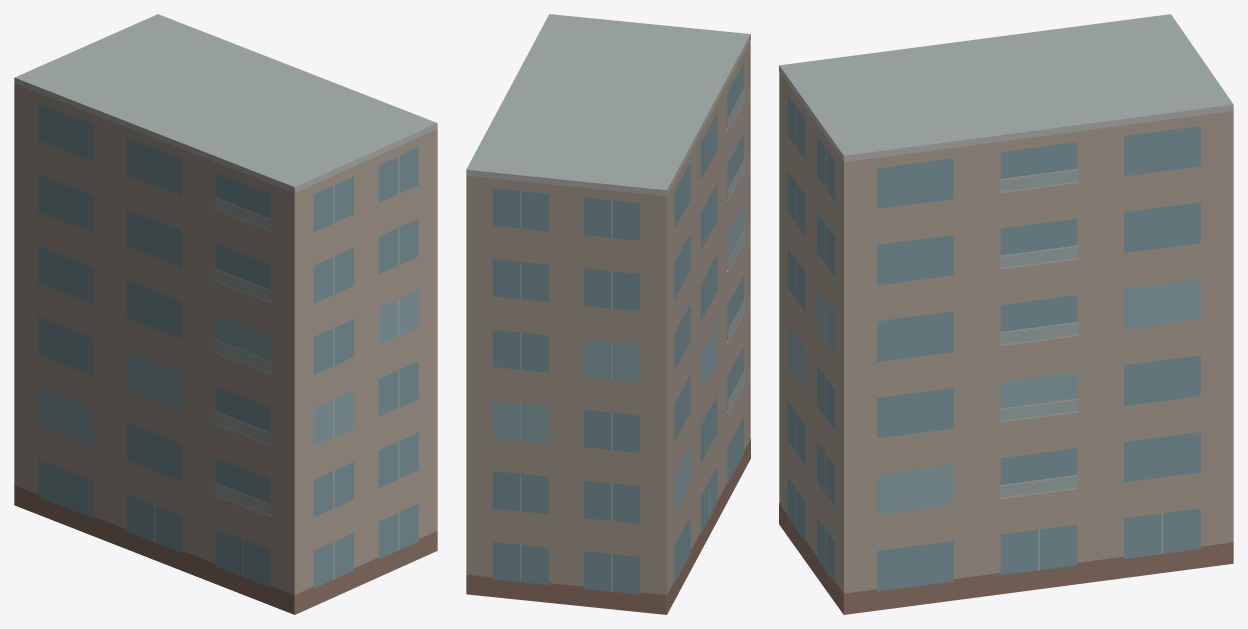
File: survey-upis-32764871.glb
3 views of the same model, side by side, from view 1: azimuth 30°, elevation 25°; view 2: azimuth 150°, elevation 25°; view 3: azimuth 270°, elevation 25° (orthographic). The views are drawn at different scales.
Parts seen in each view (by area): view 1: survey-upis-32764871.tmp; view 2: survey-upis-32764871.tmp; view 3: survey-upis-32764871.tmp.
Boxes of the visible parts, x1=… form: survey-upis-32764871.tmp: x1=14, y1=14, x2=437, y2=614; survey-upis-32764871.tmp: x1=466, y1=14, x2=750, y2=614; survey-upis-32764871.tmp: x1=779, y1=14, x2=1233, y2=614.
Bounding box in the file's own units: 11.64 × 17.55 × 15.76.
